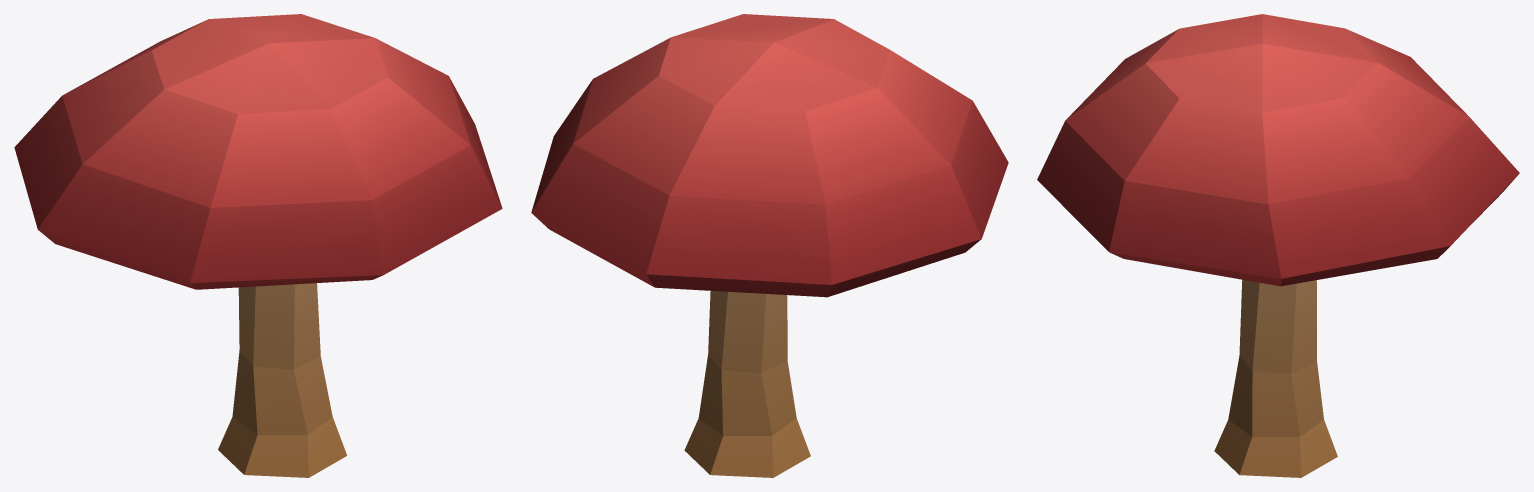
File: grzyb1.fbx
The picture shows the model from 3 angles, left to right: view 1: azimuth 30°, elevation 25°; view 2: azimuth 150°, elevation 25°; view 3: azimuth 270°, elevation 25°; orthographic projection. The views are drawn at different scales.
Visible parts, largest first — view 1: Circle.001; view 2: Circle.001; view 3: Circle.001.
Part boxes in pixels (x1=…): Circle.001: x1=14, y1=14, x2=502, y2=477; Circle.001: x1=531, y1=14, x2=1008, y2=477; Circle.001: x1=1037, y1=14, x2=1519, y2=477.
Bounding box in the file's own units: 64.1 × 58.73 × 64.13.
